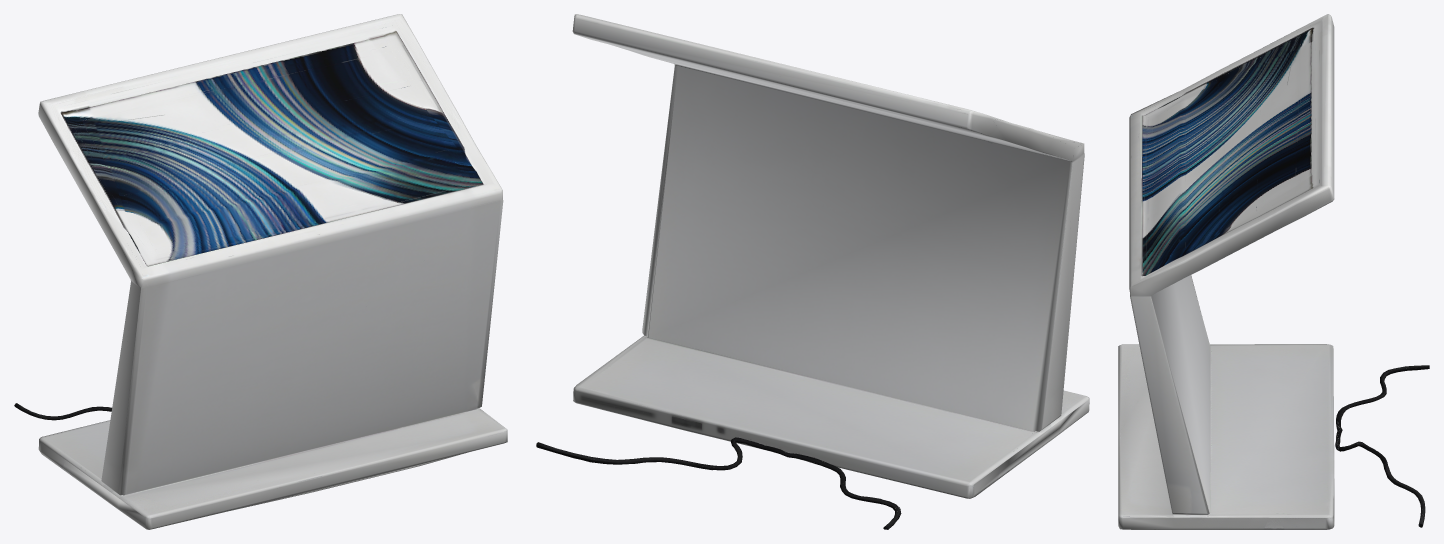
The model's file is Interactive_podium_Led_display0607153731_texture.glb.
3 renders of one model, left to right at view 1: azimuth 30°, elevation 25°; view 2: azimuth 150°, elevation 25°; view 3: azimuth 270°, elevation 25°, orthographic. The views are drawn at different scales.
Visible parts, largest first — view 1: Mesh_0.001; view 2: Mesh_0.001; view 3: Mesh_0.001.
Boxes of the visible parts, x1=… form: Mesh_0.001: x1=14, y1=14, x2=507, y2=529; Mesh_0.001: x1=536, y1=14, x2=1089, y2=529; Mesh_0.001: x1=1118, y1=14, x2=1429, y2=529.
Bounding box in the file's own units: 1.36 × 1.27 × 1.03.
Materials: 1 (1 with a texture image).
